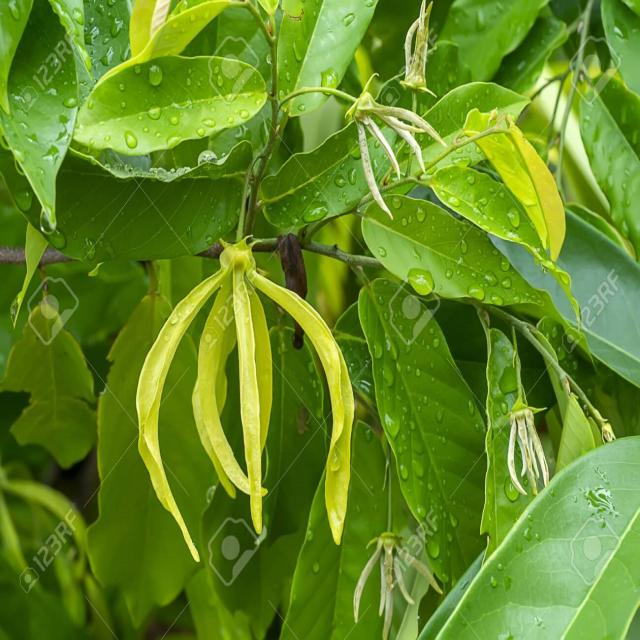organic waste: (130, 238, 359, 560), (343, 78, 564, 258)
